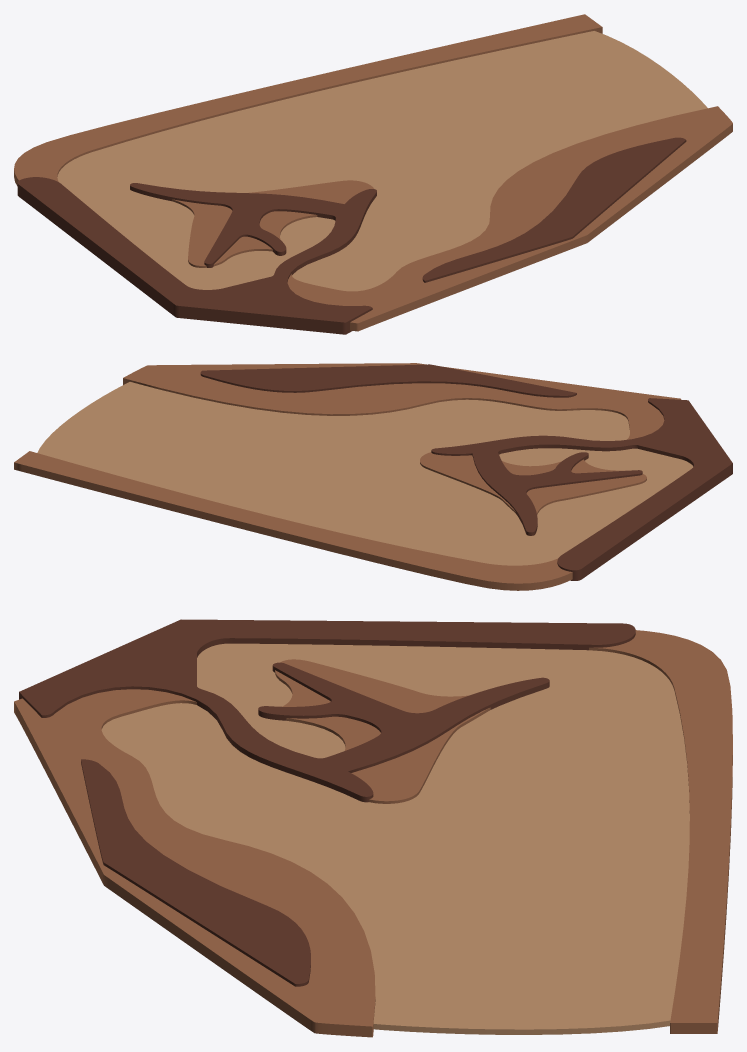
File: emoji_u1f91b_1f3fd.glb
3 views of the same model, one above another, from view 1: azimuth 30°, elevation 25°; view 2: azimuth 150°, elevation 25°; view 3: azimuth 270°, elevation 25° (orthographic). The views are drawn at different scales.
Visible parts, largest first — view 1: emoji_u1f91b_1f3fd; view 2: emoji_u1f91b_1f3fd; view 3: emoji_u1f91b_1f3fd.
Part boxes in pixels (x1,y1,x2,y2): emoji_u1f91b_1f3fd: (14, 14, 732, 334); emoji_u1f91b_1f3fd: (14, 363, 732, 590); emoji_u1f91b_1f3fd: (14, 619, 732, 1037).
Size of the model in its own units: 0.0318 by 0.0006 by 0.0239.
